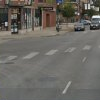crosswalk: (0, 43, 92, 64)
